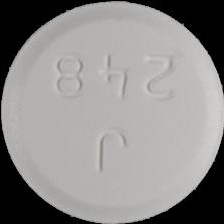50268-464: (0, 0, 224, 224)
